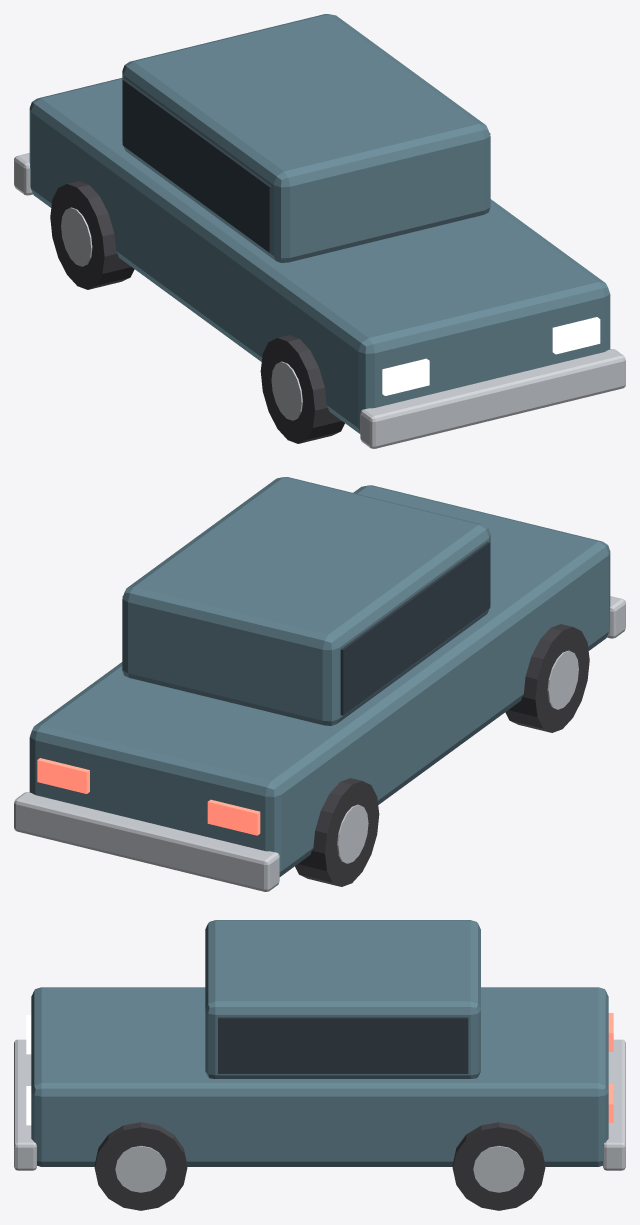
File: car_sedan_cyan.glb
3 views of the same model, one above another, from view 1: azimuth 30°, elevation 25°; view 2: azimuth 150°, elevation 25°; view 3: azimuth 270°, elevation 25° (orthographic). The views are drawn at different scales.
Parts seen in each view (by area): view 1: Chassis, Cabin, BumperF, Windows, Wheel_-1_-1, Wheel_-1_1, Rim_-1_-1, Rim_-1_1, LightFR, LightFL, BumperR; view 2: Chassis, Cabin, BumperR, Windows, Wheel_-1_1, Wheel_-1_-1, Rim_-1_1, Rim_-1_-1, LightRL, LightRR, BumperF; view 3: Chassis, Cabin, Windows, Wheel_1_-1, Wheel_1_1, BumperR, BumperF, Rim_1_-1, Rim_1_1.
Part boxes in pixels (x1=…): Chassis: x1=29, y1=78, x2=610, y2=433; Cabin: x1=122, y1=14, x2=490, y2=262; BumperF: x1=360, y1=349, x2=625, y2=448; Windows: x1=122, y1=79, x2=490, y2=252; Wheel_-1_-1: x1=260, y1=335, x2=344, y2=443; Wheel_-1_1: x1=50, y1=181, x2=134, y2=289; Rim_-1_-1: x1=271, y1=361, x2=302, y2=420; Rim_-1_1: x1=61, y1=207, x2=92, y2=266; LightFR: x1=552, y1=317, x2=600, y2=354; LightFL: x1=382, y1=358, x2=429, y2=395; BumperR: x1=14, y1=153, x2=32, y2=195; Chassis: x1=29, y1=485, x2=610, y2=876; Cabin: x1=122, y1=477, x2=490, y2=725; BumperR: x1=14, y1=792, x2=279, y2=891; Windows: x1=122, y1=542, x2=490, y2=715; Wheel_-1_1: x1=295, y1=778, x2=379, y2=886; Wheel_-1_-1: x1=505, y1=624, x2=589, y2=732; Rim_-1_1: x1=337, y1=804, x2=368, y2=863; Rim_-1_-1: x1=547, y1=650, x2=578, y2=709; LightRL: x1=207, y1=799, x2=260, y2=835; LightRR: x1=37, y1=758, x2=89, y2=793; BumperF: x1=606, y1=596, x2=625, y2=638; Chassis: x1=31, y1=987, x2=608, y2=1166; Cabin: x1=205, y1=920, x2=480, y2=1078; Windows: x1=218, y1=1017, x2=468, y2=1073; Wheel_1_-1: x1=94, y1=1122, x2=187, y2=1210; Wheel_1_1: x1=452, y1=1122, x2=545, y2=1210; BumperR: x1=603, y1=1039, x2=625, y2=1170; BumperF: x1=14, y1=1039, x2=36, y2=1170; Rim_1_-1: x1=115, y1=1146, x2=166, y2=1192; Rim_1_1: x1=473, y1=1146, x2=524, y2=1192.
Size of what is drawn, in the model's own units: 2.12 by 1.66 by 4.77.
